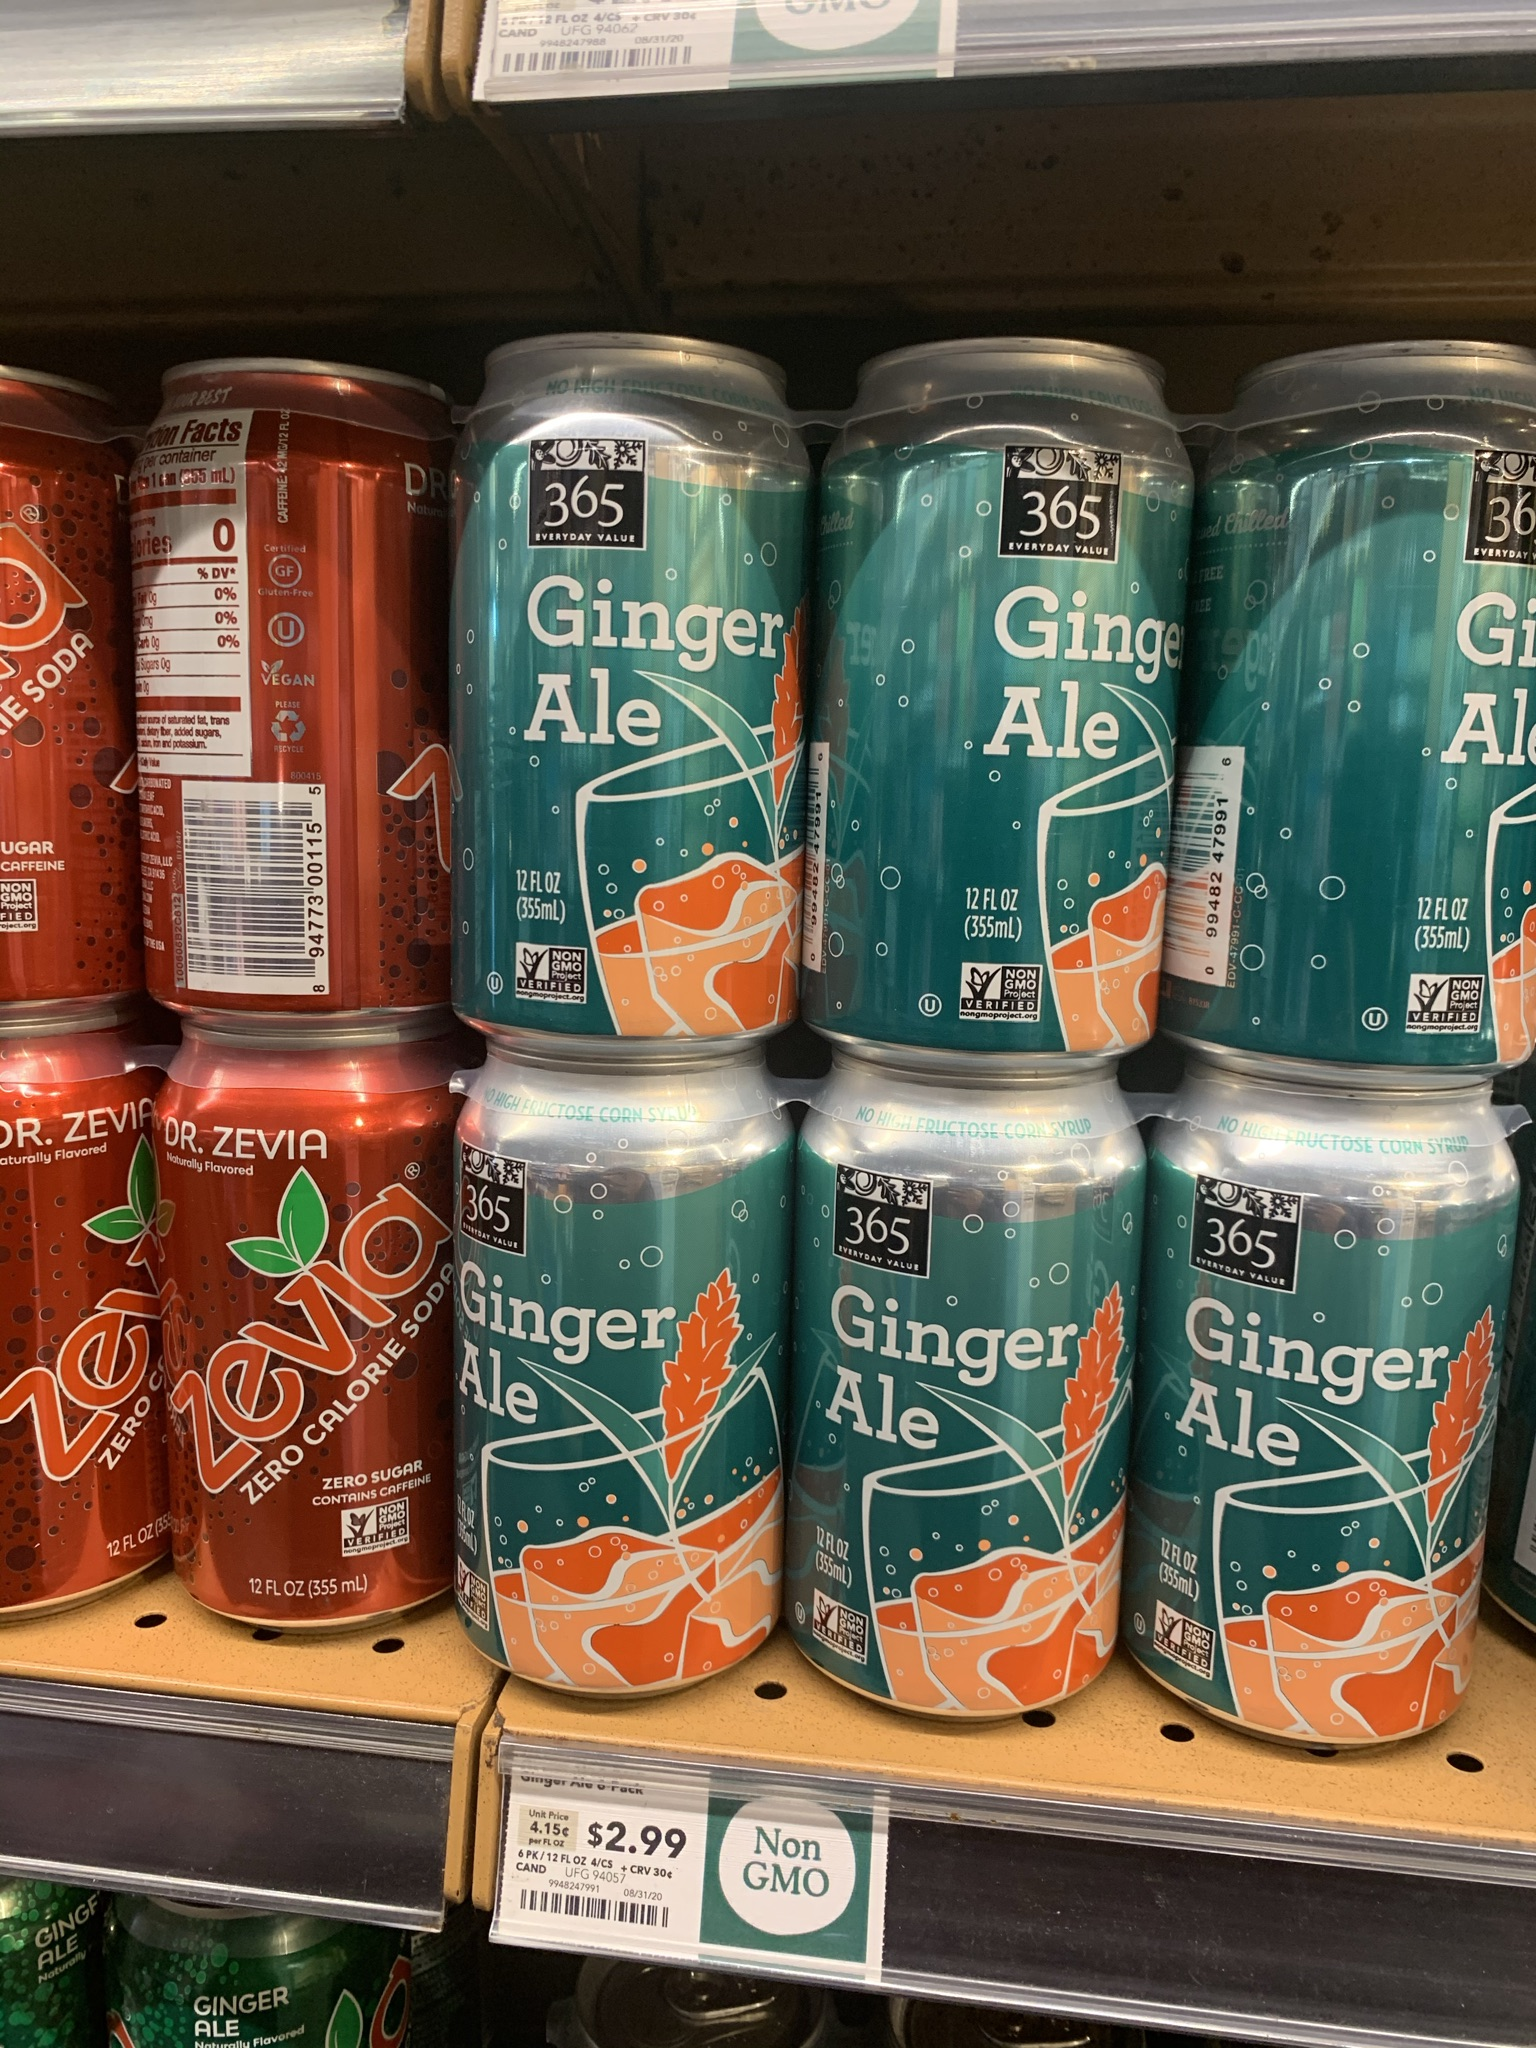can: (826, 358, 1168, 1053), (447, 347, 778, 1014), (1218, 355, 1530, 1053), (147, 360, 436, 1006), (1186, 1122, 1476, 1730), (471, 1074, 770, 1658), (824, 1105, 1108, 1695), (186, 1035, 436, 1627)
